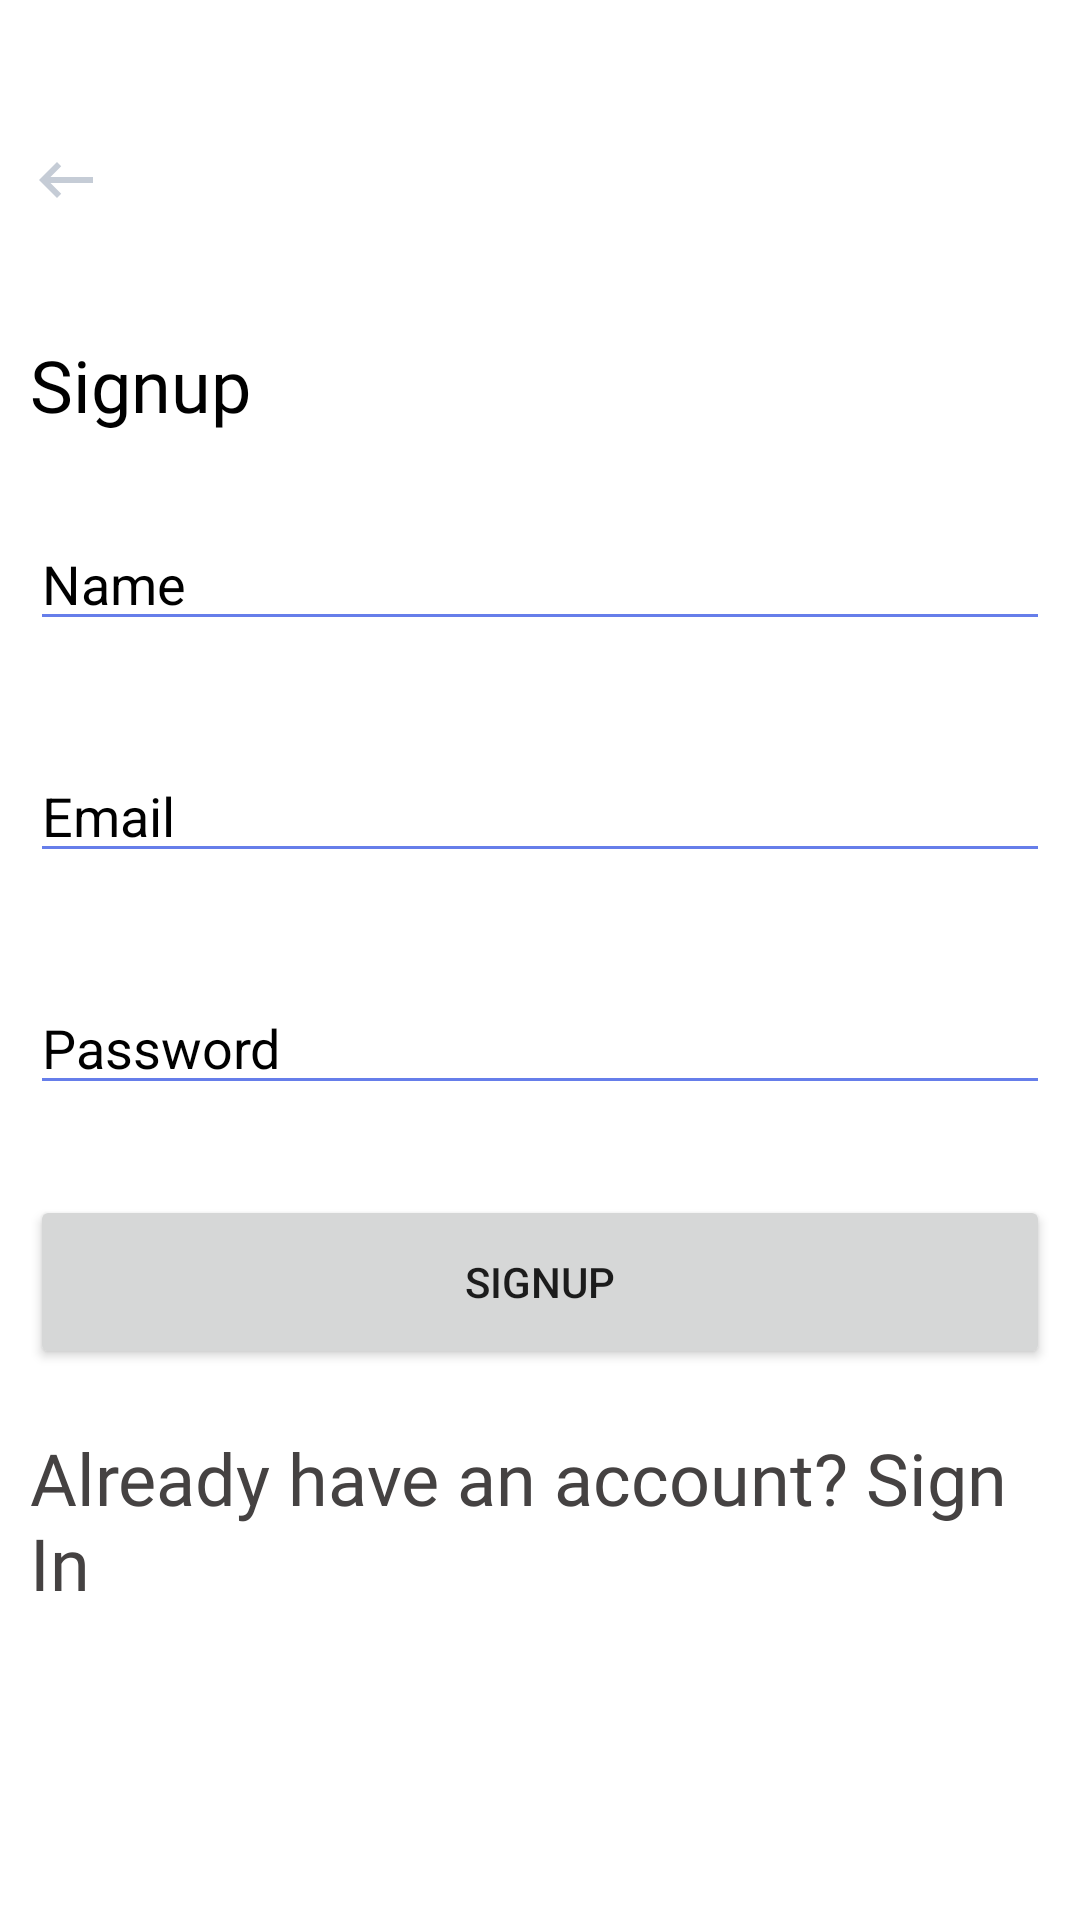

Icon click points for this 1080px x 1920px phone screenshot, format (x=x, y=y):
keyboard backspace: (x=66, y=180)
